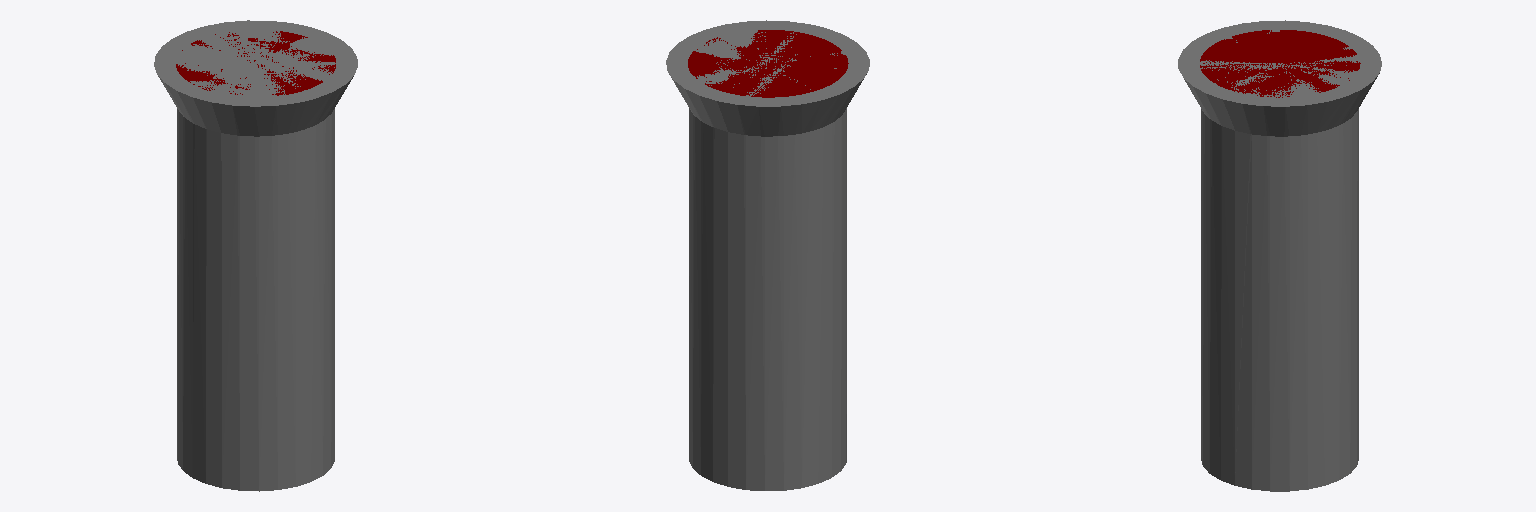
robot.urdf — straight_link-ms.SLDASM:
<?xml version="1.0" encoding="utf-8"?>
<!-- This URDF was automatically created by SolidWorks to URDF Exporter! Originally created by [author] ([email redacted]) 
     Commit Version: 1.6.0-4-g7f85cfe  Build Version: 1.6.7995.38578
     For more information, please see http://wiki.ros.org/sw_urdf_exporter -->
<robot
  name="straight_link-ms.SLDASM">
  <link
    name="sl_out_1">
    <inertial>
      <origin
        xyz="-2.61E-07 7.571E-07 -0.097144"
        rpy="0 0 0" />
      <mass
        value="0.86346" />
      <inertia
        ixx="0.0033145"
        ixy="3.4516E-09"
        ixz="-3.4917E-09"
        iyy="0.0033145"
        iyz="9.5259E-09"
        izz="0.00060028" />
    </inertial>
    <visual>
      <origin
        xyz="0 0 0"
        rpy="0 0 0" />
      <geometry>
        <mesh
          filename="package://straight_link-ms.SLDASM/meshes/sl_out_1.STL" />
      </geometry>
      <material
        name="red">
        <color
          rgba="0.5 0 0 1" />
      </material>
    </visual>
    <collision>
      <origin
        xyz="0 0 0"
        rpy="0 0 0" />
      <geometry>
        <mesh
          filename="package://straight_link-ms.SLDASM/meshes/sl_out_1.STL" />
      </geometry>
    </collision>
  </link>
  <link
    name="sl_body">
    <inertial>
      <origin
        xyz="-2.61E-07 7.571E-07 -0.097144"
        rpy="0 0 0" />
      <mass
        value="0.86346" />
      <inertia
        ixx="0.0033145"
        ixy="3.4516E-09"
        ixz="-3.4917E-09"
        iyy="0.0033145"
        iyz="9.5259E-09"
        izz="0.00060028" />
    </inertial>
    <visual>
      <origin
        xyz="0 0 0"
        rpy="0 0 0" />
      <geometry>
        <mesh
          filename="package://straight_link-ms.SLDASM/meshes/sl_body.STL" />
      </geometry>
      <material
        name="body">
        <color
          rgba="0.5 0.5 0.5 1" />
      </material>
    </visual>
    <collision>
      <origin
        xyz="0 0 0"
        rpy="0 0 0" />
      <geometry>
        <mesh
          filename="package://straight_link-ms.SLDASM/meshes/sl_body.STL" />
      </geometry>
    </collision>
  </link>
  <joint
    name="sl_medium"
    type="fixed">
    <origin
      xyz="0 0 0"
      rpy="0 0 0" />
    <parent
      link="sl_out_1" />
    <child
      link="sl_body" />
    <axis
      xyz="0 0 0" />
  </joint>
  <link
    name="sl_out_2">
    <inertial>
      <origin
        xyz="5.2473E-08 1.4238E-07 -0.10286"
        rpy="0 0 0" />
      <mass
        value="0.86346" />
      <inertia
        ixx="0.0033145"
        ixy="-3.4516E-09"
        ixz="3.4917E-09"
        iyy="0.0033145"
        iyz="9.5259E-09"
        izz="0.00060028" />
    </inertial>
    <visual>
      <origin
        xyz="0 0 0"
        rpy="0 0 0" />
      <geometry>
        <mesh
          filename="package://straight_link-ms.SLDASM/meshes/sl_out_2.STL" />
      </geometry>
      <material
        name="red">
        <color
          rgba="0.5 0 0 1" />
      </material>
    </visual>
    <collision>
      <origin
        xyz="0 0 0"
        rpy="0 0 0" />
      <geometry>
        <mesh
          filename="package://straight_link-ms.SLDASM/meshes/sl_out_2.STL" />
      </geometry>
    </collision>
  </link>
  <joint
    name="sl_small"
    type="fixed">
    <origin
      xyz="0 0 -0.2"
      rpy="3.1416 0 0" />
    <parent
      link="sl_body" />
    <child
      link="sl_out_2" />
    <axis
      xyz="0 0 0" />
  </joint>
</robot>

--- Render facts (derived) ---
3 views of the same robot in one strip: view 1: azimuth 30°, elevation 25°; view 2: azimuth 150°, elevation 25°; view 3: azimuth 270°, elevation 25° (orthographic).
Robot: straight_link-ms.SLDASM — 3 links, 2 joints (2 fixed); root link sl_out_1; default pose: all joints at 0.
Visible links, largest first — view 1: sl_body, sl_out_1; view 2: sl_body, sl_out_1; view 3: sl_body, sl_out_1.
Boxes of the visible links, box(x1,y1,x2,y2) form: sl_body: box(154, 20, 357, 491); sl_out_1: box(176, 31, 335, 95); sl_body: box(666, 20, 869, 490); sl_out_1: box(688, 30, 848, 97); sl_body: box(1178, 20, 1381, 491); sl_out_1: box(1200, 30, 1360, 97).
Size in the robot's own frame: 0.0939 by 0.094 by 0.2 metres.
3 mesh visuals loaded from 3 distinct referenced files (3 binary STL).